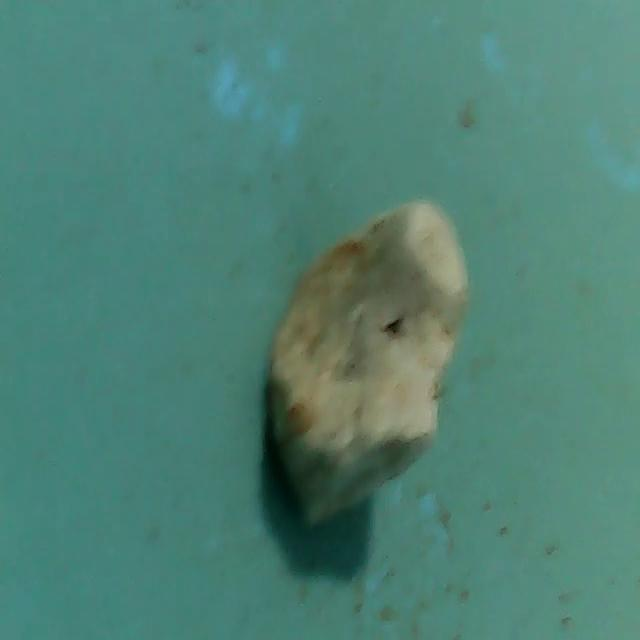rock: (257, 195, 473, 535)
